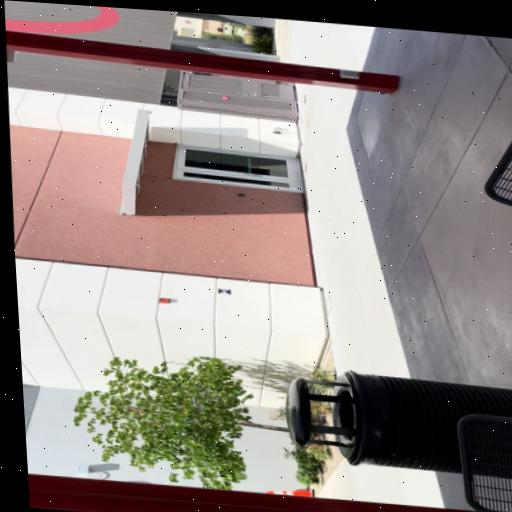target6: (218, 288, 231, 295)
